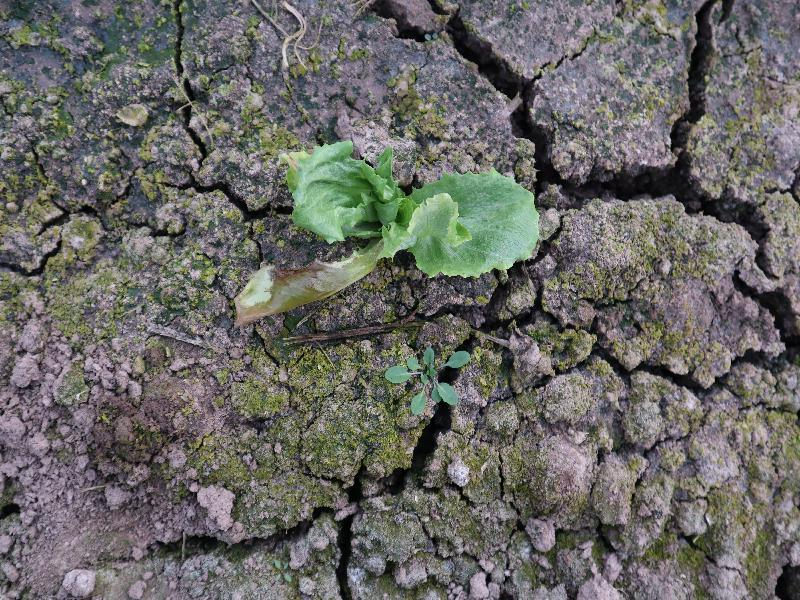lettuce: (233, 137, 540, 324)
